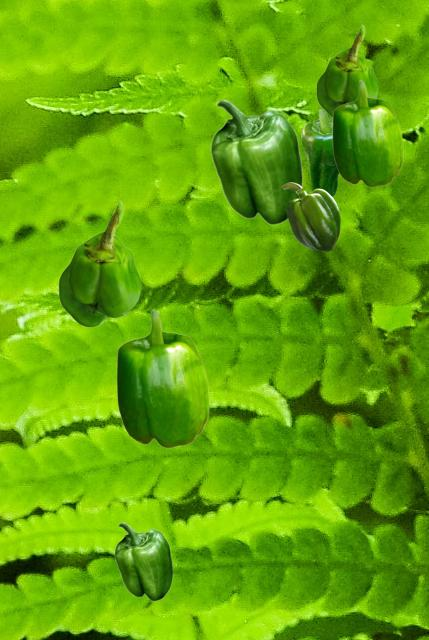bell_pepper: (116, 309, 208, 447), (210, 99, 302, 224), (58, 200, 140, 326), (332, 80, 402, 186), (316, 24, 377, 117), (114, 522, 172, 600), (281, 182, 339, 250), (301, 109, 338, 196)
